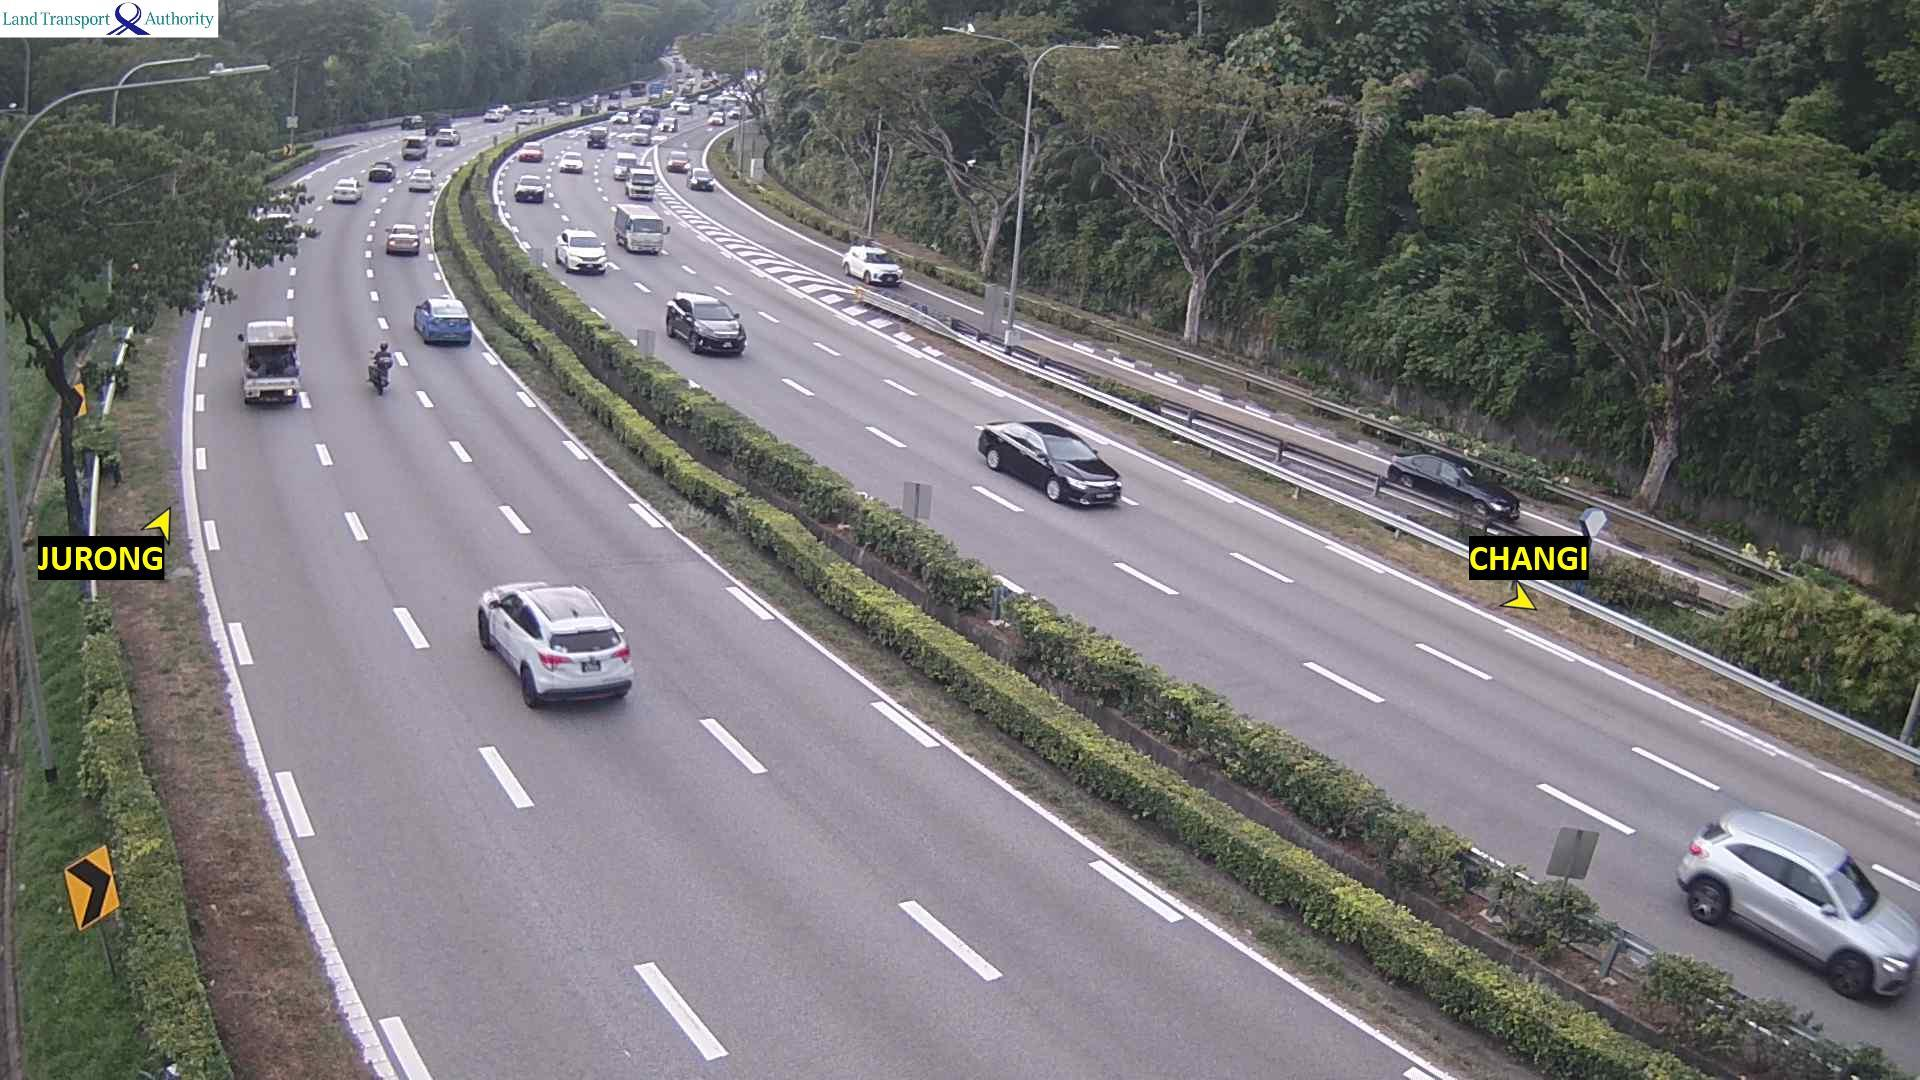incoming: (1824, 853, 1913, 992), (1036, 433, 1125, 508), (1455, 465, 1524, 522), (688, 301, 749, 355), (559, 236, 611, 274), (630, 216, 671, 255), (861, 249, 902, 284), (513, 178, 547, 204), (629, 170, 658, 200), (615, 153, 638, 181), (665, 150, 692, 173), (517, 141, 543, 164), (559, 153, 585, 174), (690, 171, 717, 190), (585, 128, 608, 149), (632, 125, 653, 145), (611, 107, 629, 127), (659, 116, 678, 135), (709, 112, 725, 124)
